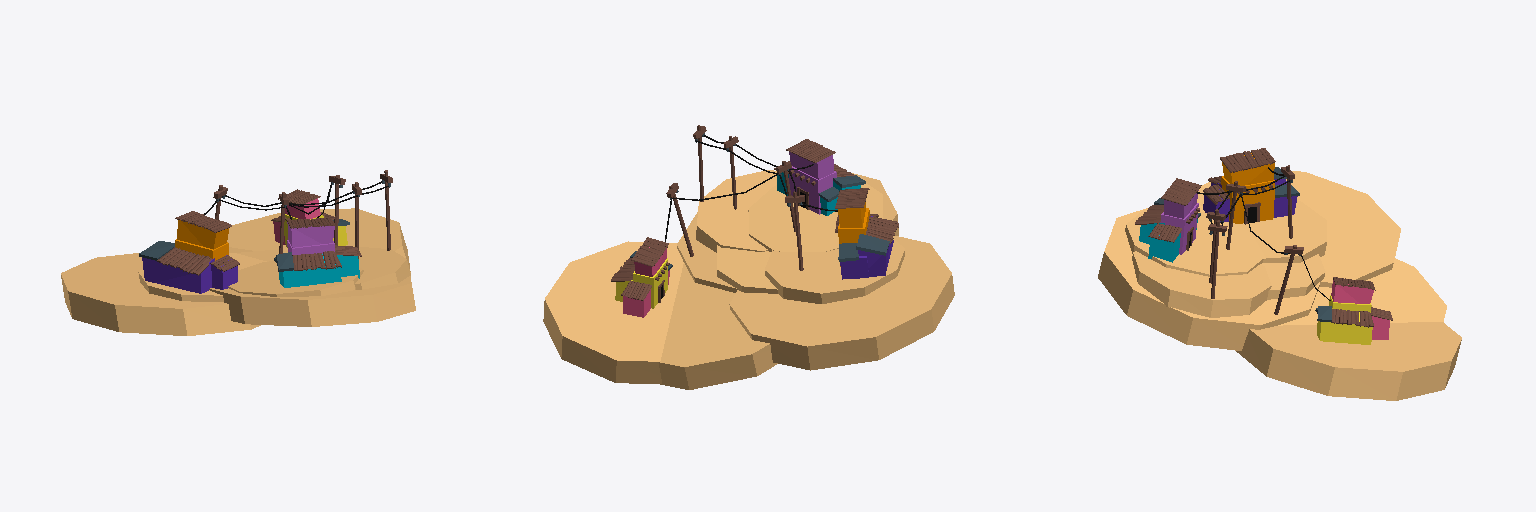
Rendered from desert_town.obj.
3 renders of one model, left to right at view 1: azimuth 30°, elevation 25°; view 2: azimuth 150°, elevation 25°; view 3: azimuth 270°, elevation 25°, orthographic.
Parts seen in each view (by area): view 1: group[number redacted], group[number redacted], group[number redacted], group[number redacted], group[number redacted], group[number redacted], group[number redacted], group[number redacted], group[number redacted], group[number redacted], group[number redacted]; view 2: group[number redacted], group[number redacted], group[number redacted], group[number redacted], group[number redacted], group[number redacted], group[number redacted], group[number redacted], group[number redacted], group[number redacted], group[number redacted], group[number redacted] (+1 smaller); view 3: group[number redacted], group[number redacted], group[number redacted], group[number redacted], group[number redacted], group[number redacted], group[number redacted], group[number redacted], group[number redacted], group[number redacted], group[number redacted], group[number redacted] (+1 smaller).
Boxes of the visible parts, <box> form: group[number redacted]: <box>61,253,260,335</box>; group[number redacted]: <box>209,276,415,326</box>; group[number redacted]: <box>227,208,410,272</box>; group[number redacted]: <box>228,261,363,296</box>; group[number redacted]: <box>354,246,410,289</box>; group[number redacted]: <box>142,257,214,293</box>; group[number redacted]: <box>271,189,349,247</box>; group[number redacted]: <box>138,253,266,301</box>; group[number redacted]: <box>279,254,341,287</box>; group[number redacted]: <box>177,220,228,249</box>; group[number redacted]: <box>287,222,334,247</box>; group[number redacted]: <box>729,236,954,370</box>; group[number redacted]: <box>543,241,683,383</box>; group[number redacted]: <box>659,263,777,389</box>; group[number redacted]: <box>765,239,904,303</box>; group[number redacted]: <box>748,183,882,251</box>; group[number redacted]: <box>696,170,776,252</box>; group[number redacted]: <box>611,237,672,317</box>; group[number redacted]: <box>677,173,898,292</box>; group[number redacted]: <box>717,245,777,293</box>; group[number redacted]: <box>789,166,836,214</box>; group[number redacted]: <box>789,152,833,179</box>; group[number redacted]: <box>858,216,893,276</box>; group[number redacted]: <box>1236,322,1461,400</box>; group[number redacted]: <box>1098,205,1319,350</box>; group[number redacted]: <box>1197,171,1400,287</box>; group[number redacted]: <box>1132,251,1271,317</box>; group[number redacted]: <box>1278,258,1446,325</box>; group[number redacted]: <box>1125,209,1264,276</box>; group[number redacted]: <box>1315,277,1392,344</box>; group[number redacted]: <box>1200,200,1326,262</box>; group[number redacted]: <box>1261,254,1325,299</box>; group[number redacted]: <box>1221,176,1274,223</box>; group[number redacted]: <box>1222,153,1274,185</box>; group[number redacted]: <box>1160,203,1198,254</box>.
Size of the model in its own units: 5.13 by 2.33 by 4.61.